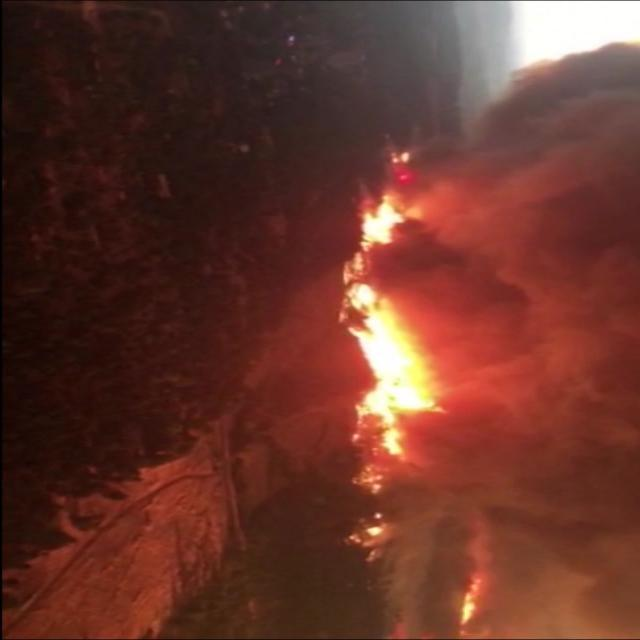Fire: (346, 193, 446, 463)
